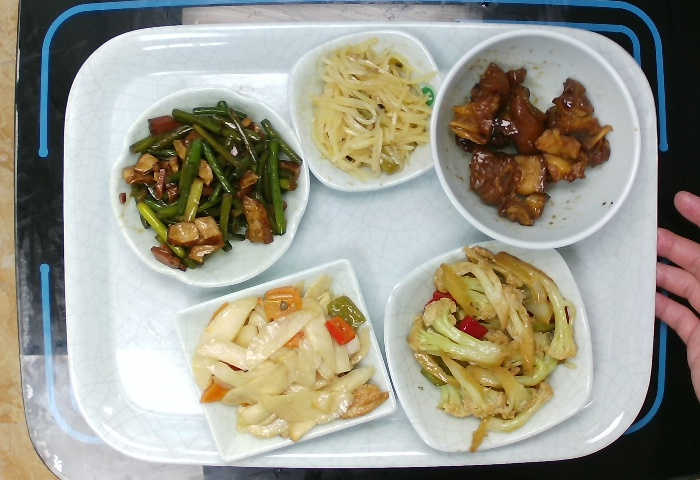JYsf-Ao_Yuan_Wan: (101, 82, 316, 294)
JYsf-Fan_Wan: (422, 24, 650, 254)
JYsf-Si_Fang_Die: (283, 25, 453, 195)
WCQzf-Da_Si_Fang_Die: (378, 239, 599, 456)
WCQzf-Ru_Ci_Si_Fang_Die: (168, 253, 399, 467)
